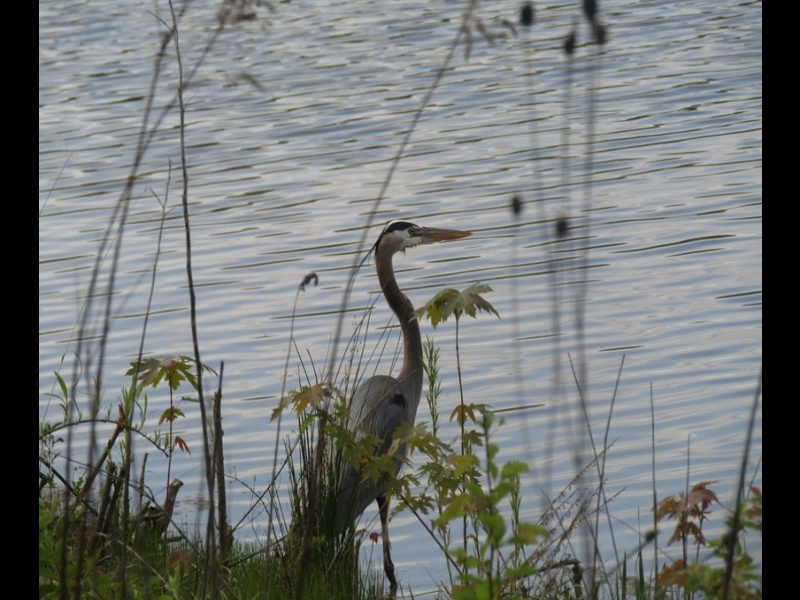heron: (306, 216, 481, 596)
